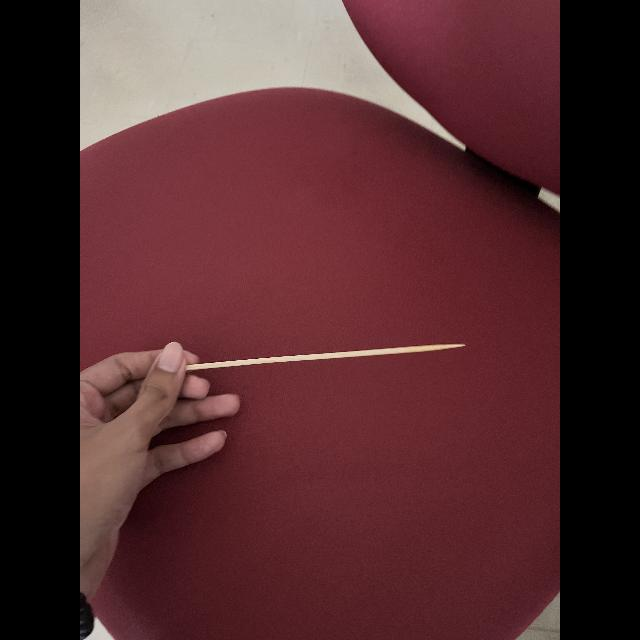stick: (182, 336, 472, 374)
